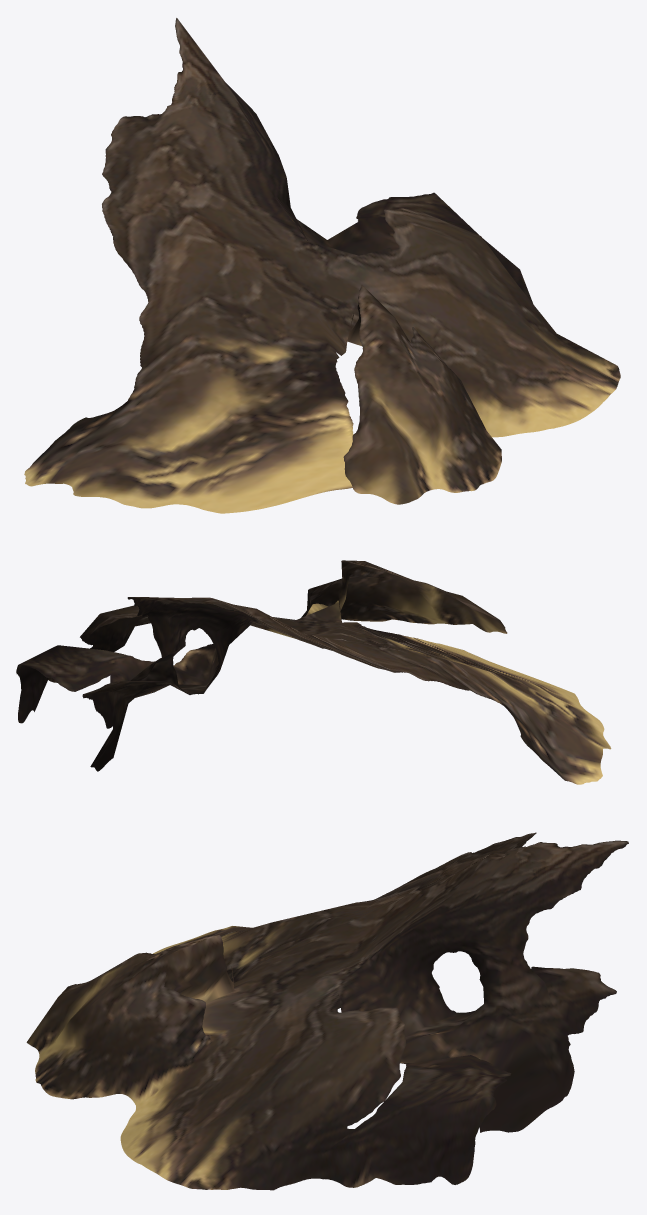
The model's file is rock_3_05.FBX.
The picture shows the model from 3 angles, top to bottom: view 1: azimuth 30°, elevation 25°; view 2: azimuth 150°, elevation 25°; view 3: azimuth 270°, elevation 25°; orthographic projection. The views are drawn at different scales.
Parts seen in each view (by area): view 1: rock_3_05; view 2: rock_3_05; view 3: rock_3_05.
Part boxes in pixels (box(x1,y1,x2,y2)): rock_3_05: box(24, 18, 620, 513); rock_3_05: box(16, 560, 611, 784); rock_3_05: box(26, 832, 628, 1190).
Bounding box in the file's own units: 412 × 176 × 388.
